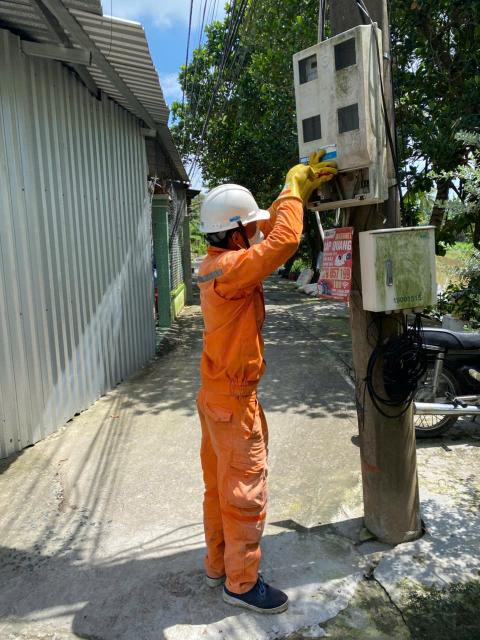gloves: (281, 143, 332, 200), (278, 157, 309, 204)
helmet: (178, 176, 279, 238)
shoes: (220, 578, 301, 623), (196, 567, 234, 591)
